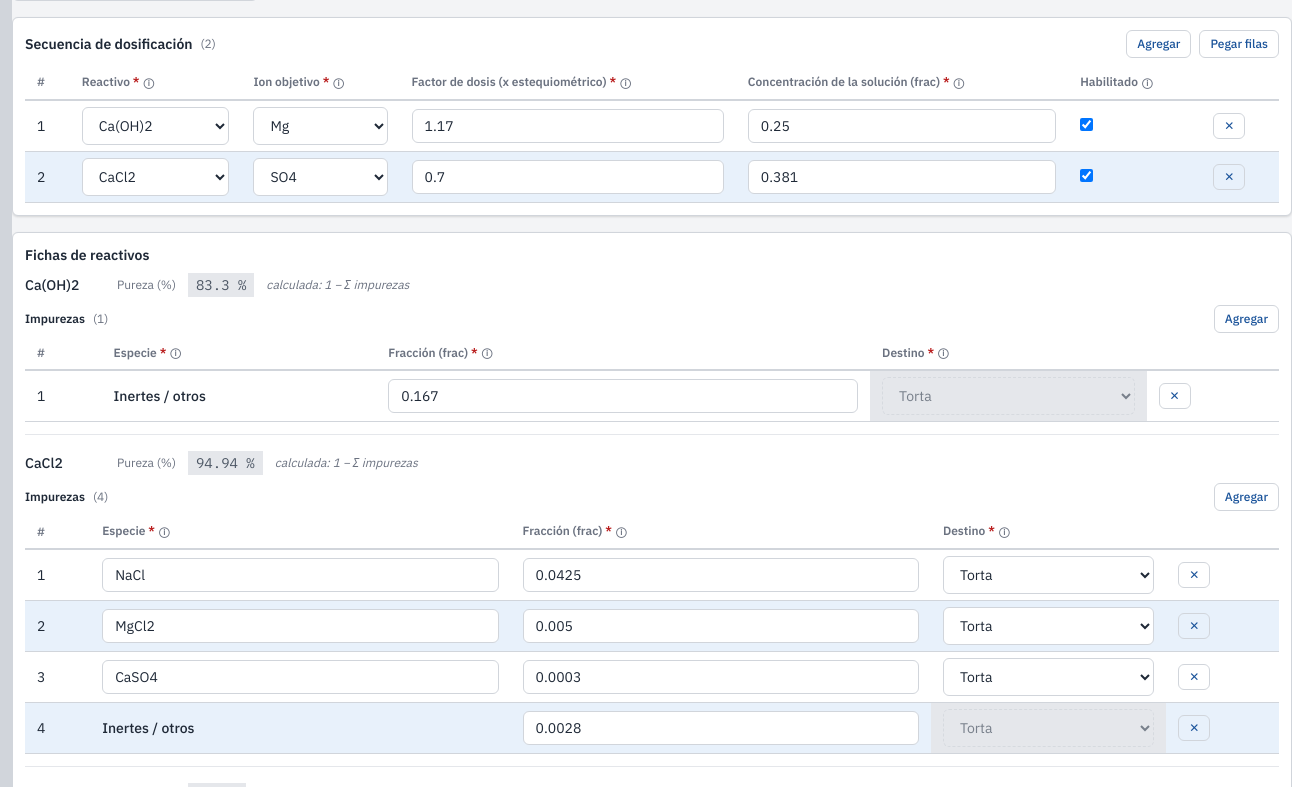
fichas de reactivos (punto 8) › impurezas que suman 1 o más: la pureza queda en 0 y se avisa antes de validar
(page scrolled)
Replace the text in the field with test id "impurity-Ca(OH)2-1-frac" with "1" at (623, 396), box [388,379,858,413]
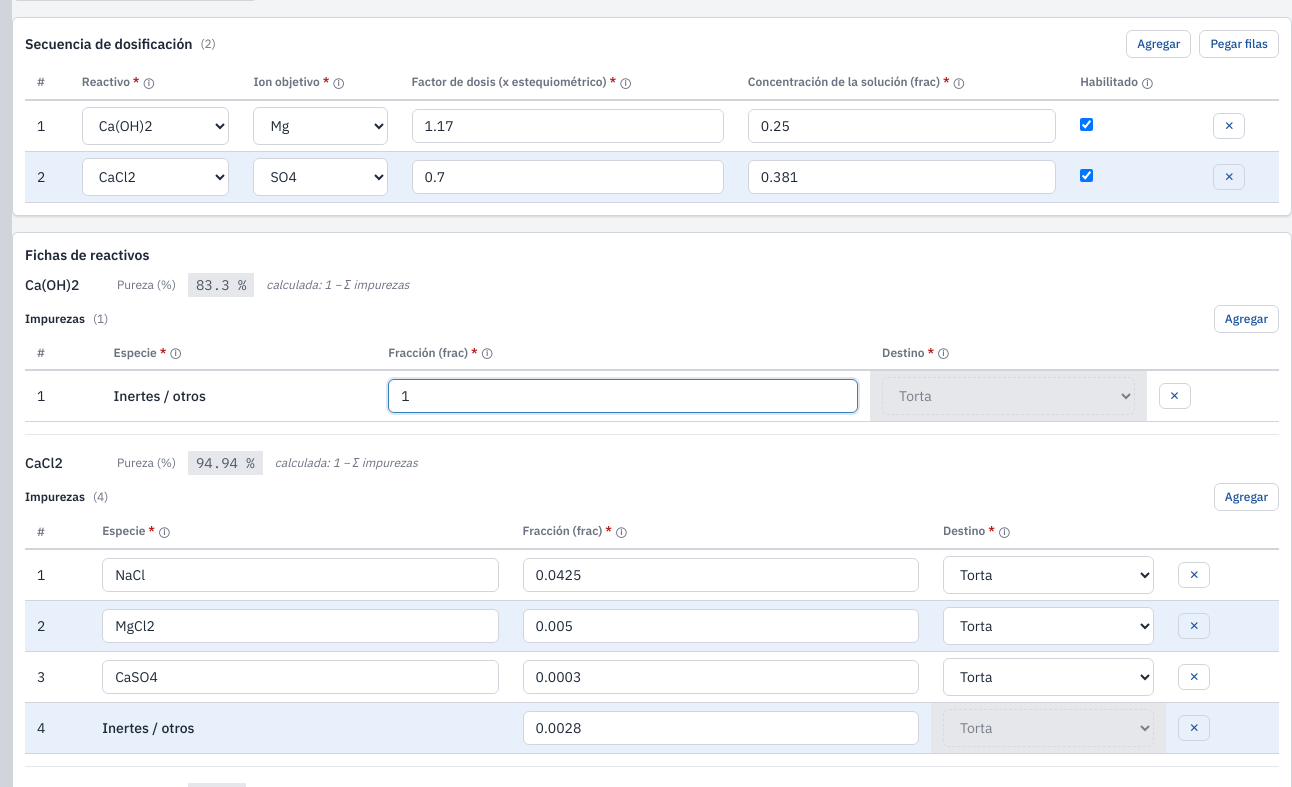
Press Tab
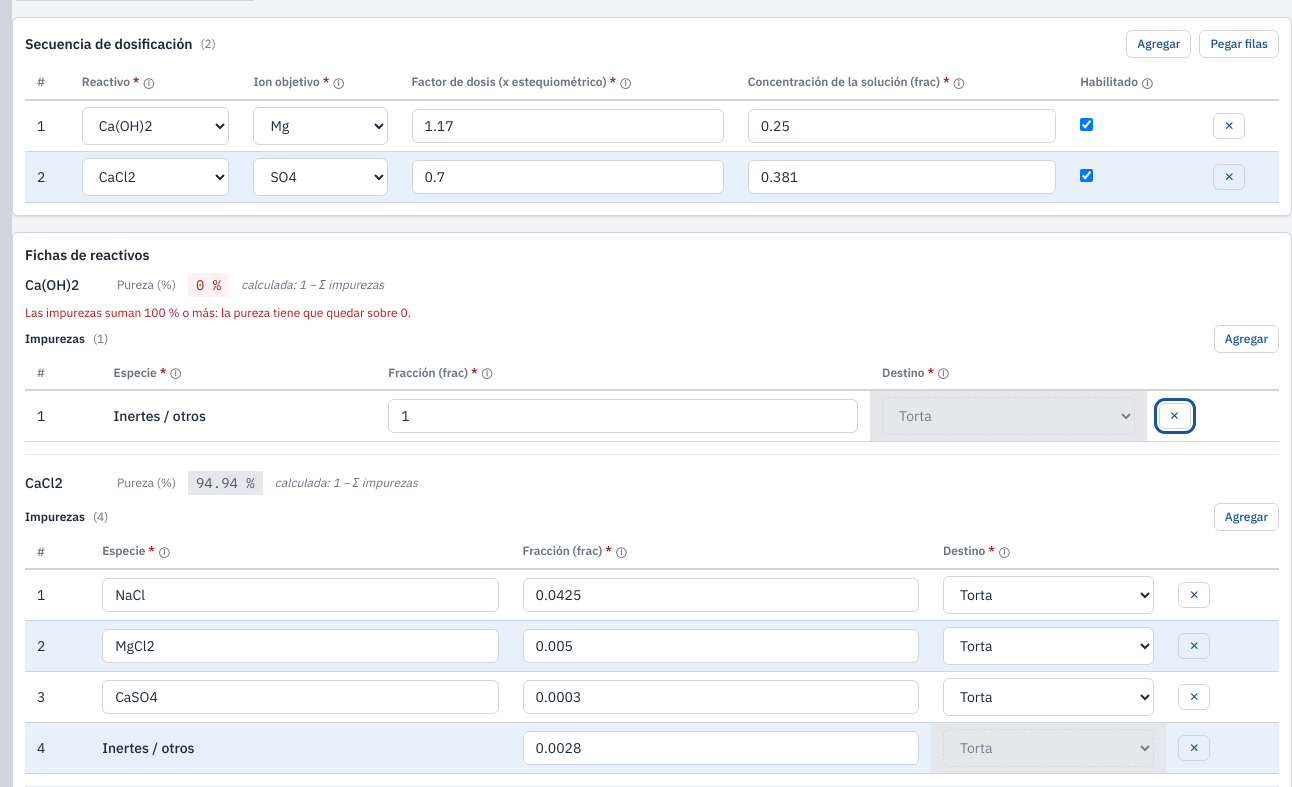
Now the text with test id "reagent-Ca(OH)2-purity" reads "0 %", box [188,272,229,296]
Now the text with test id "reagent-Ca(OH)2-overflow" is shown, box [25,304,411,320]
